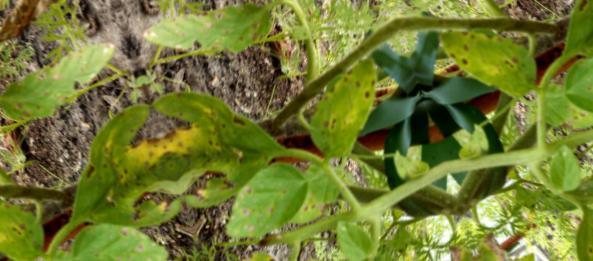Tomato Septoria leaf spot: (288, 60, 398, 165), (209, 152, 320, 251), (141, 0, 278, 78), (224, 0, 376, 19), (207, 247, 310, 261)
